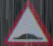Speed Breaker ahead: (6, 1, 52, 43)
